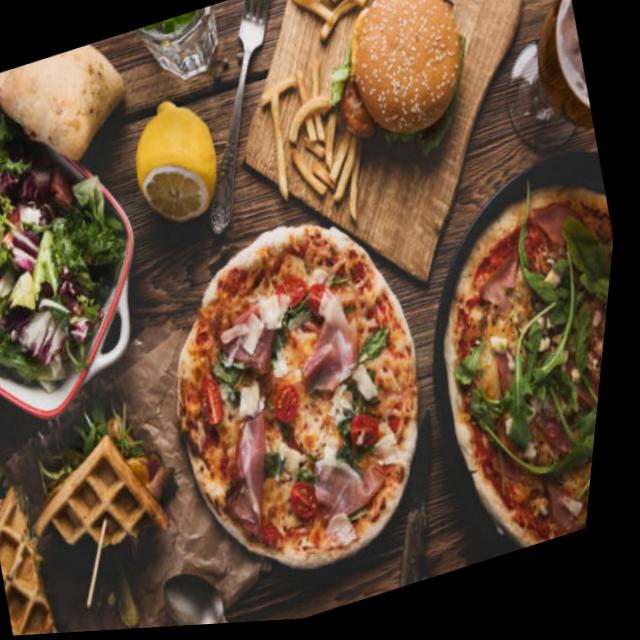burger: (311, 0, 497, 187)
pizza: (134, 193, 483, 609), (396, 168, 625, 572)
